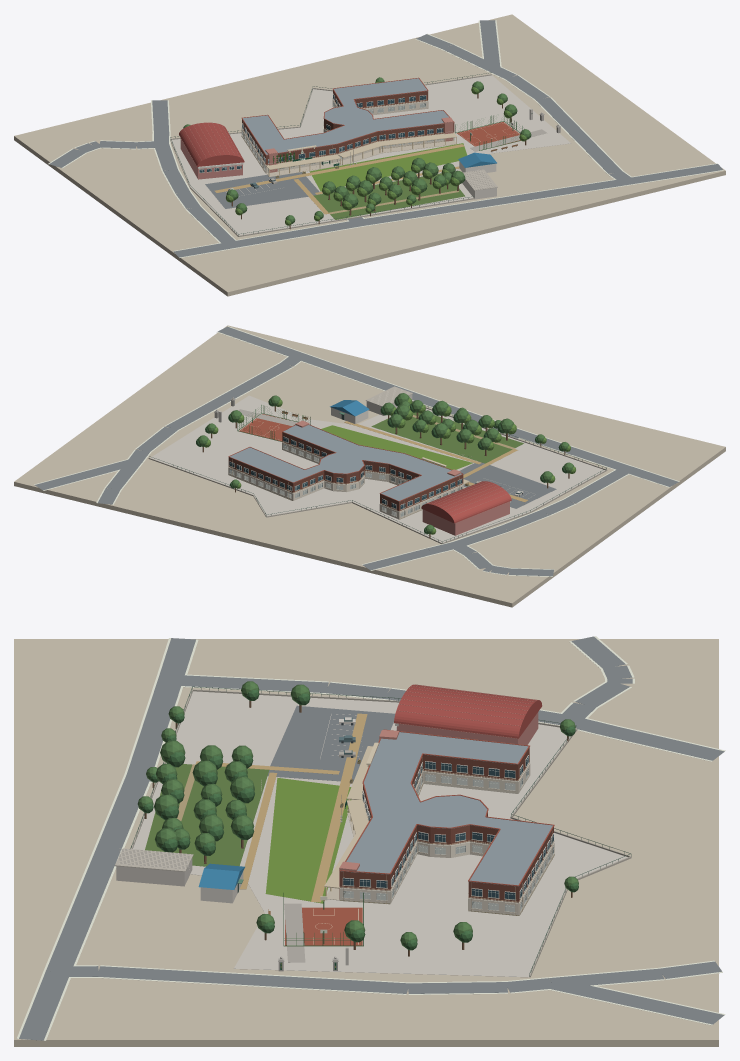
File: dasi-elementary.glb
3 views of the same model, one above another, from view 1: azimuth 30°, elevation 25°; view 2: azimuth 150°, elevation 25°; view 3: azimuth 270°, elevation 25° (orthographic). The views are drawn at different scales.
Parts seen in each view (by area): view 1: ground_base, ground_floor_campus, roof_main_flat, ground_floor_school_parking, osm-building_963585634, ground_floor_school_lawn, ground_floor_south_grove, roof_west_barrel, road_591007053_2, road_532229673_1, road_591007053_1, ground_floor_sport_court (+10 smaller); view 2: ground_base, ground_floor_campus, roof_main_flat, osm-building_963585634, ground_floor_south_grove, roof_west_barrel, ground_floor_school_parking, ground_floor_school_lawn, road_532229673_1, road_591007053_2, osm-building_963585635, road_591007053_1 (+6 smaller); view 3: ground_base, ground_floor_campus, roof_main_flat, ground_floor_school_lawn, ground_floor_school_parking, roof_west_barrel, road_591007053_2, osm-building_963585634, ground_floor_south_grove, road_532229673_1, road_591007053_1, ground_floor_sport_court (+21 smaller).
Boxes of the visible parts, bbox=[...] form: ground_base: bbox=[14, 14, 725, 296]; ground_floor_campus: bbox=[171, 75, 570, 235]; roof_main_flat: bbox=[243, 78, 448, 154]; ground_floor_school_parking: bbox=[205, 172, 321, 208]; osm-building_963585634: bbox=[242, 90, 454, 165]; ground_floor_school_lawn: bbox=[309, 143, 467, 191]; ground_floor_south_grove: bbox=[313, 173, 464, 219]; roof_west_barrel: bbox=[179, 122, 244, 166]; road_591007053_2: bbox=[357, 178, 630, 225]; road_532229673_1: bbox=[536, 97, 621, 173]; road_591007053_1: bbox=[232, 220, 361, 247]; ground_floor_sport_court: bbox=[457, 122, 520, 146]; ground_base: bbox=[14, 325, 725, 607]; ground_floor_campus: bbox=[150, 395, 604, 542]; roof_main_flat: bbox=[229, 425, 461, 501]; osm-building_963585634: bbox=[228, 432, 463, 510]; ground_floor_south_grove: bbox=[371, 412, 523, 463]; roof_west_barrel: bbox=[421, 481, 511, 523]; ground_floor_school_parking: bbox=[459, 461, 556, 508]; ground_floor_school_lawn: bbox=[321, 425, 472, 469]; road_532229673_1: bbox=[166, 363, 292, 429]; road_591007053_2: bbox=[294, 353, 522, 435]; osm-building_963585635: bbox=[422, 501, 509, 535]; road_591007053_1: bbox=[514, 430, 631, 469]; ground_base: bbox=[14, 639, 718, 1046]; ground_floor_campus: bbox=[133, 691, 627, 977]; roof_main_flat: bbox=[341, 732, 552, 886]; ground_floor_school_lawn: bbox=[265, 777, 351, 903]; ground_floor_school_parking: bbox=[267, 705, 395, 781]; roof_west_barrel: bbox=[394, 684, 542, 738]; road_591007053_2: bbox=[46, 775, 149, 971]; osm-building_963585634: bbox=[340, 747, 553, 902]; ground_floor_south_grove: bbox=[145, 764, 269, 866]; road_532229673_1: bbox=[97, 966, 409, 993]; road_591007053_1: bbox=[126, 679, 181, 775]; ground_floor_sport_court: bbox=[285, 907, 362, 945].
Size of what is drawn, in the model's own units: 247 by 12.75 by 184.
141 materials, 1 textured.
